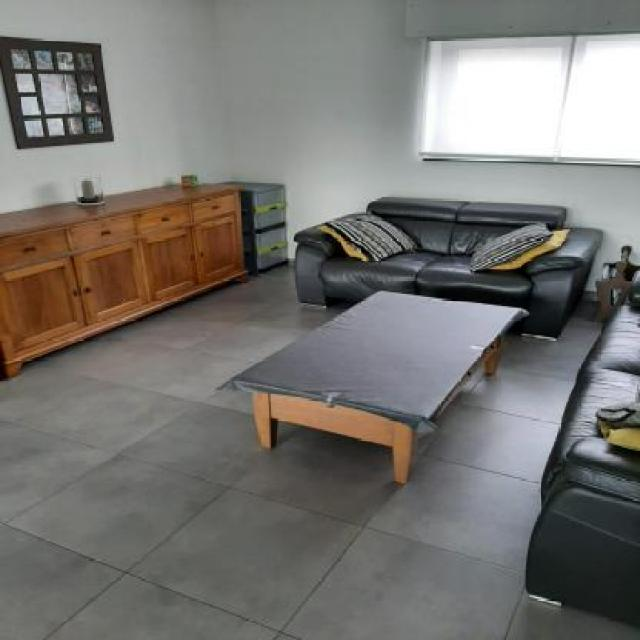Floor: (0, 266, 640, 640)
